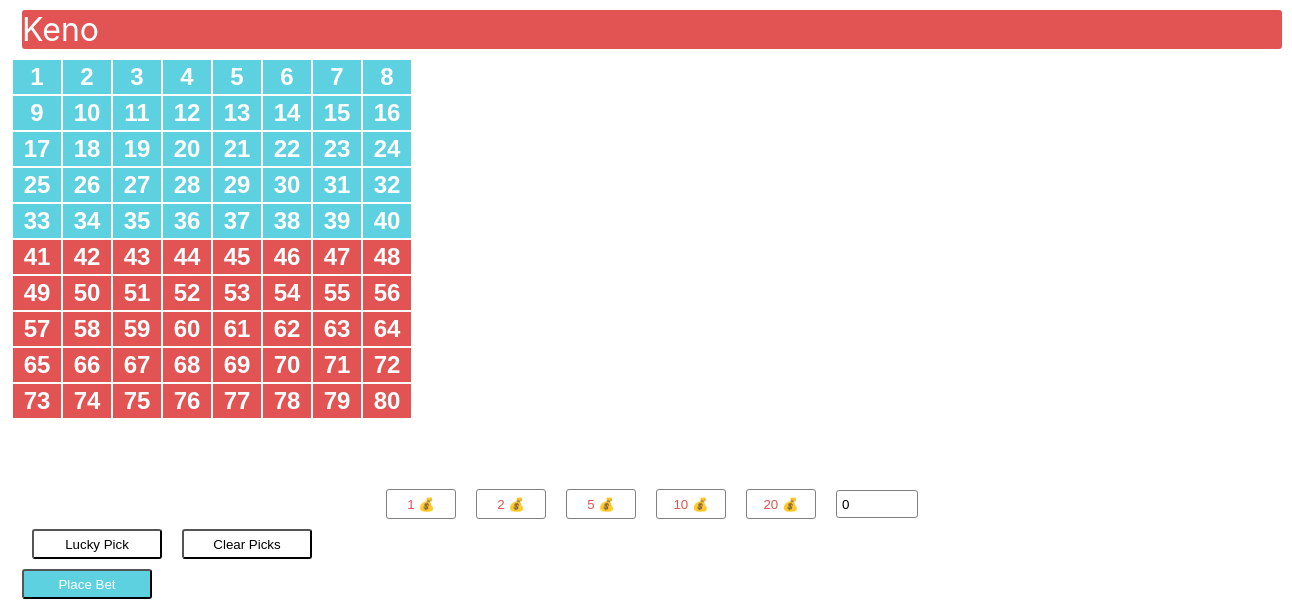
it: Click Place Bet after inputting stake with less than 3dp and number selected renders win prompt
Click the button "1" at (37, 77), box 12,59 -> 62,95
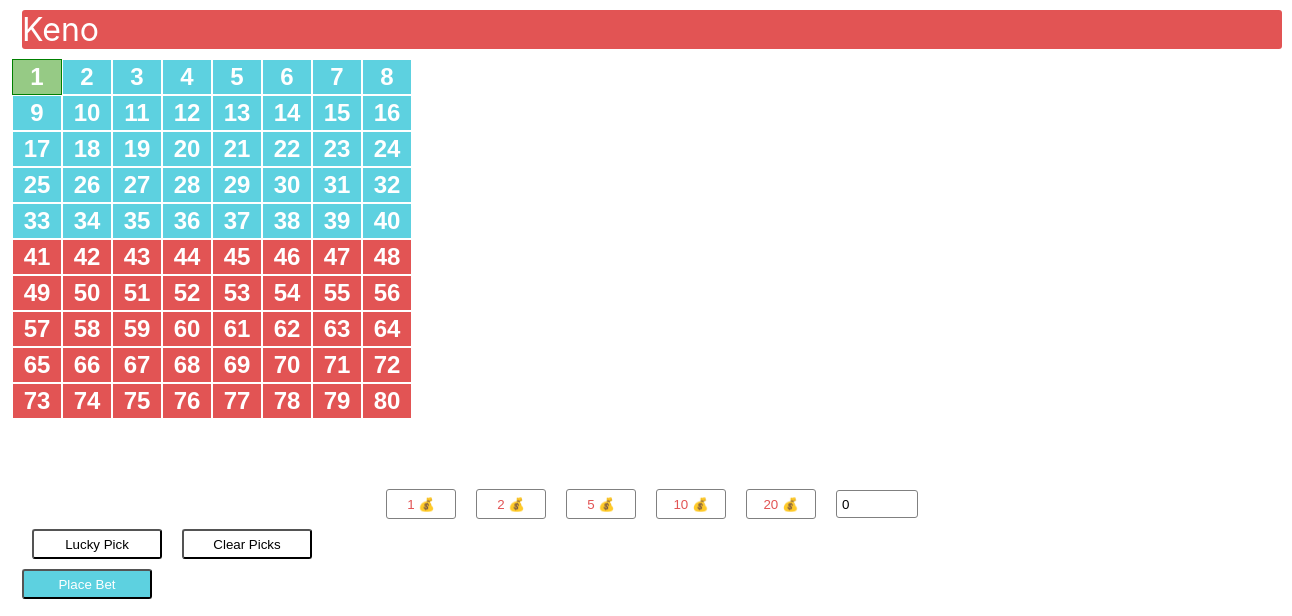
Replace the text in the field named "stake-input" with "23.45" at (877, 504), box 836,490 -> 918,518
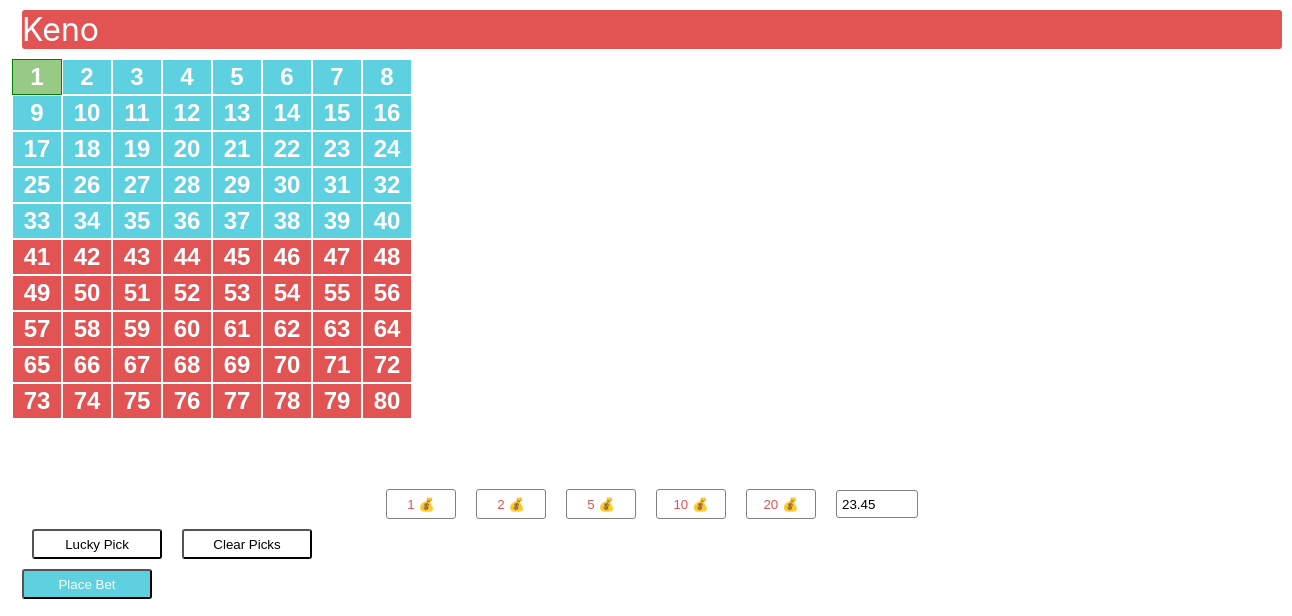
Click the button "Place Bet" at (87, 584), box 22,569 -> 152,599
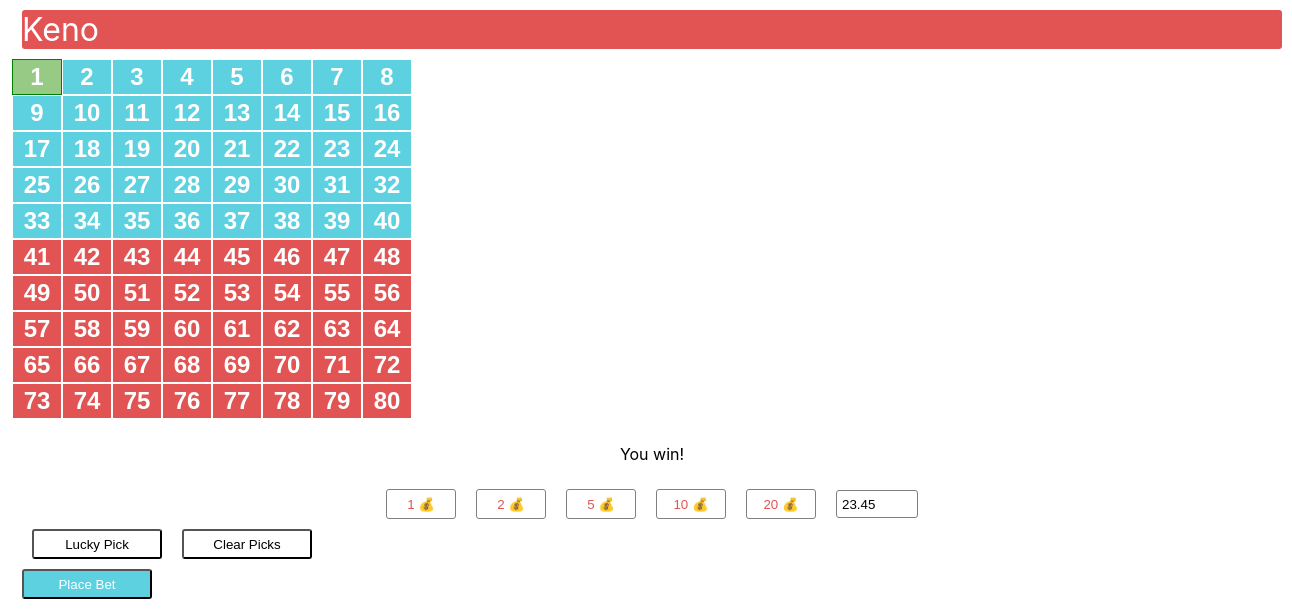
Result: the text "You win!" is shown at 620,444 -> 684,464
